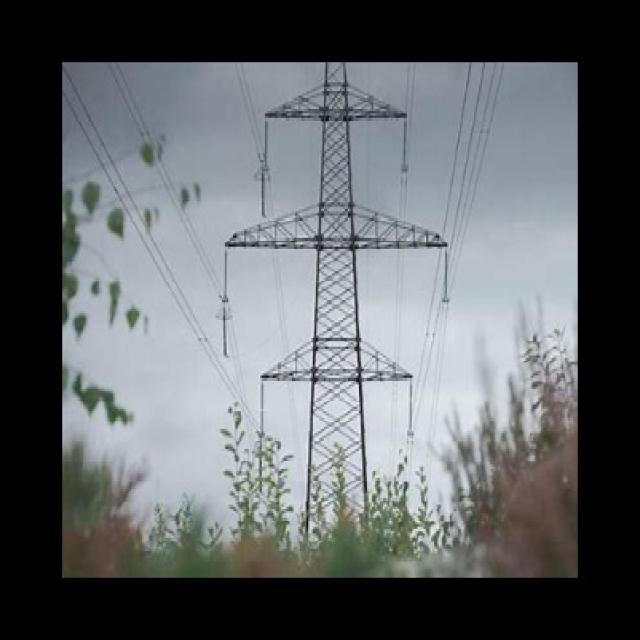utility poles: (238, 323, 437, 576)
